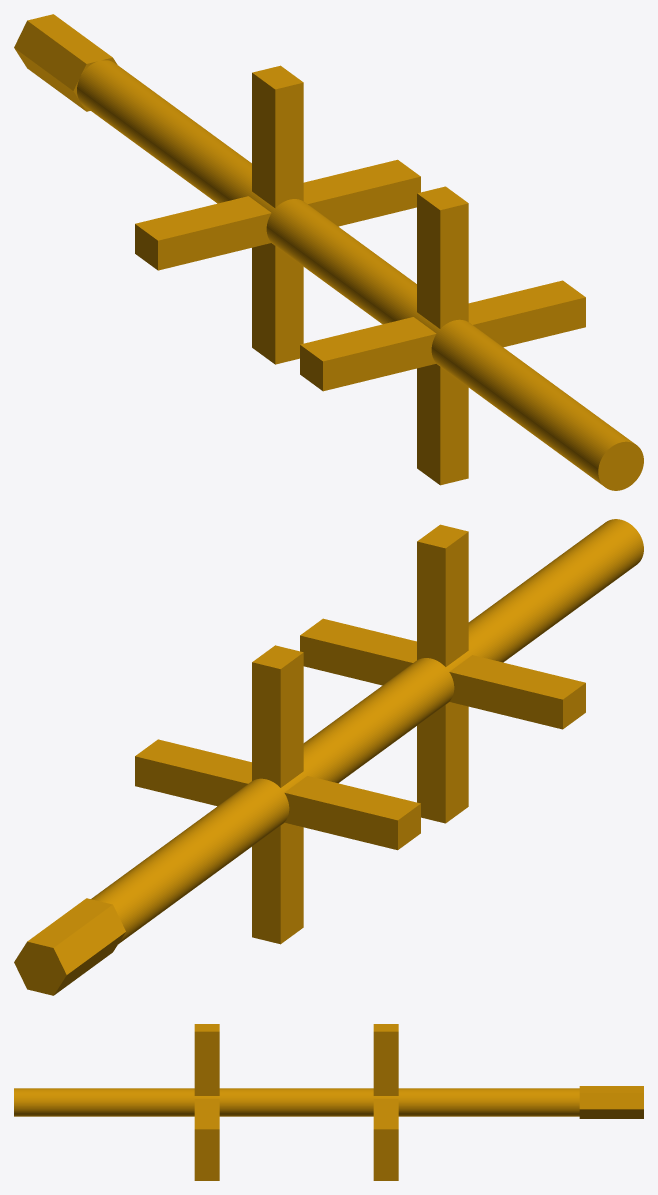
Rendered from ali_agitador.glb.
The picture shows the model from 3 angles, top to bottom: view 1: azimuth 30°, elevation 25°; view 2: azimuth 150°, elevation 25°; view 3: azimuth 270°, elevation 25°; orthographic projection. The views are drawn at different scales.
Parts seen in each view (by area): view 1: world; view 2: world; view 3: world.
Part boxes in pixels (x1,y1,x2,y2): world: (14, 14, 643, 490); world: (14, 519, 643, 995); world: (14, 1024, 643, 1180).
Size of the model in its own units: 46 by 46 by 176.
